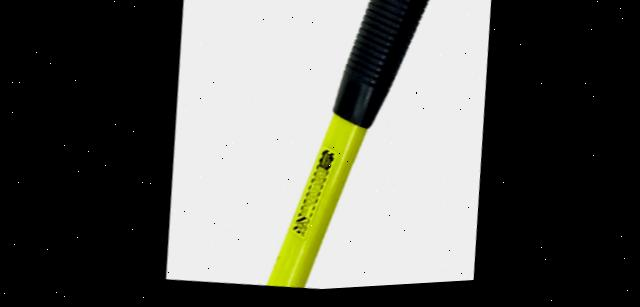hammer: (148, 0, 504, 300)
